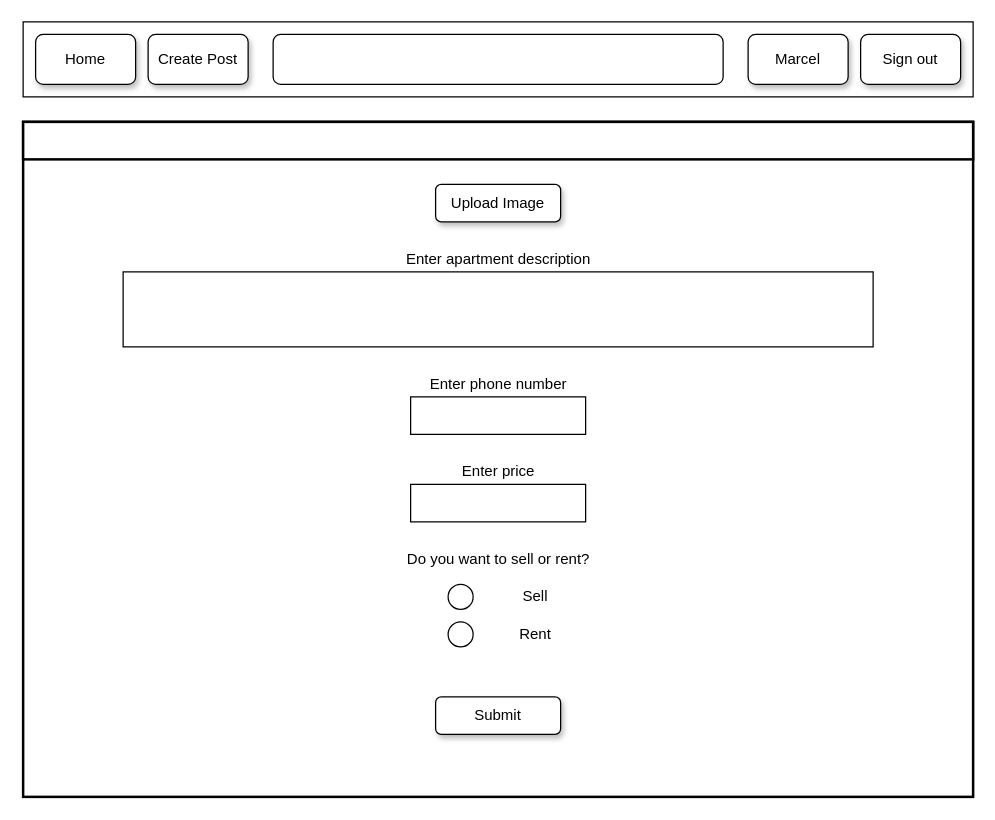
Image size: 995x820. Some labels were removed from this diagram. The shapes that lost their labels are listed below. From the top down, each one's centre as x and y in pixels, then its label:
(x=497, y=58): Search
(x=497, y=140): Create New Announcement
